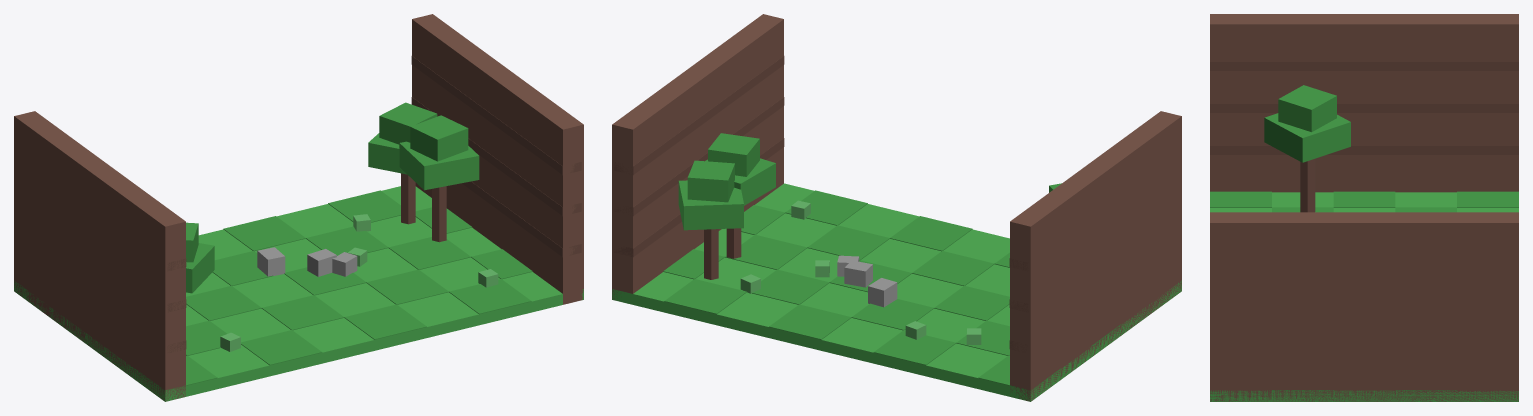
The model's file is ZoneVerte.glb.
3 renders of one model, left to right at view 1: azimuth 30°, elevation 25°; view 2: azimuth 150°, elevation 25°; view 3: azimuth 270°, elevation 25°, orthographic. The views are drawn at different scales.
Visible parts, largest first — view 1: ZoneVerte__wall, ZoneVerte__floor, ZoneVerte__floor_alt, ZoneVerte__foliage, ZoneVerte__wall_alt, ZoneVerte__rock, ZoneVerte__trunk, ZoneVerte__grass_tuft; view 2: ZoneVerte__wall, ZoneVerte__floor, ZoneVerte__floor_alt, ZoneVerte__foliage, ZoneVerte__wall_alt, ZoneVerte__rock, ZoneVerte__grass_tuft, ZoneVerte__trunk; view 3: ZoneVerte__wall, ZoneVerte__wall_alt, ZoneVerte__floor, ZoneVerte__foliage, ZoneVerte__floor_alt, ZoneVerte__trunk.
Boxes of the visible parts, x1=… form: ZoneVerte__wall: x1=14, y1=14, x2=583, y2=401; ZoneVerte__floor: x1=14, y1=186, x2=583, y2=401; ZoneVerte__floor_alt: x1=18, y1=190, x2=532, y2=390; ZoneVerte__foliage: x1=186, y1=102, x2=479, y2=293; ZoneVerte__wall_alt: x1=167, y1=56, x2=581, y2=352; ZoneVerte__rock: x1=257, y1=247, x2=357, y2=276; ZoneVerte__trunk: x1=401, y1=173, x2=446, y2=242; ZoneVerte__grass_tuft: x1=220, y1=214, x2=498, y2=351; ZoneVerte__wall: x1=612, y1=14, x2=1181, y2=401; ZoneVerte__floor: x1=612, y1=183, x2=1181, y2=401; ZoneVerte__floor_alt: x1=663, y1=190, x2=1121, y2=390; ZoneVerte__foliage: x1=678, y1=133, x2=1061, y2=230; ZoneVerte__wall_alt: x1=614, y1=56, x2=1028, y2=351; ZoneVerte__rock: x1=837, y1=255, x2=897, y2=307; ZoneVerte__grass_tuft: x1=740, y1=200, x2=981, y2=344; ZoneVerte__trunk: x1=704, y1=228, x2=741, y2=279; ZoneVerte__wall: x1=1210, y1=14, x2=1518, y2=401; ZoneVerte__wall_alt: x1=1210, y1=62, x2=1518, y2=154; ZoneVerte__floor: x1=1210, y1=192, x2=1518, y2=401; ZoneVerte__foliage: x1=1264, y1=85, x2=1350, y2=162; ZoneVerte__floor_alt: x1=1210, y1=191, x2=1518, y2=390; ZoneVerte__trunk: x1=1300, y1=159, x2=1315, y2=212.
Bounding box in the file's own units: 40 × 16 × 25.
